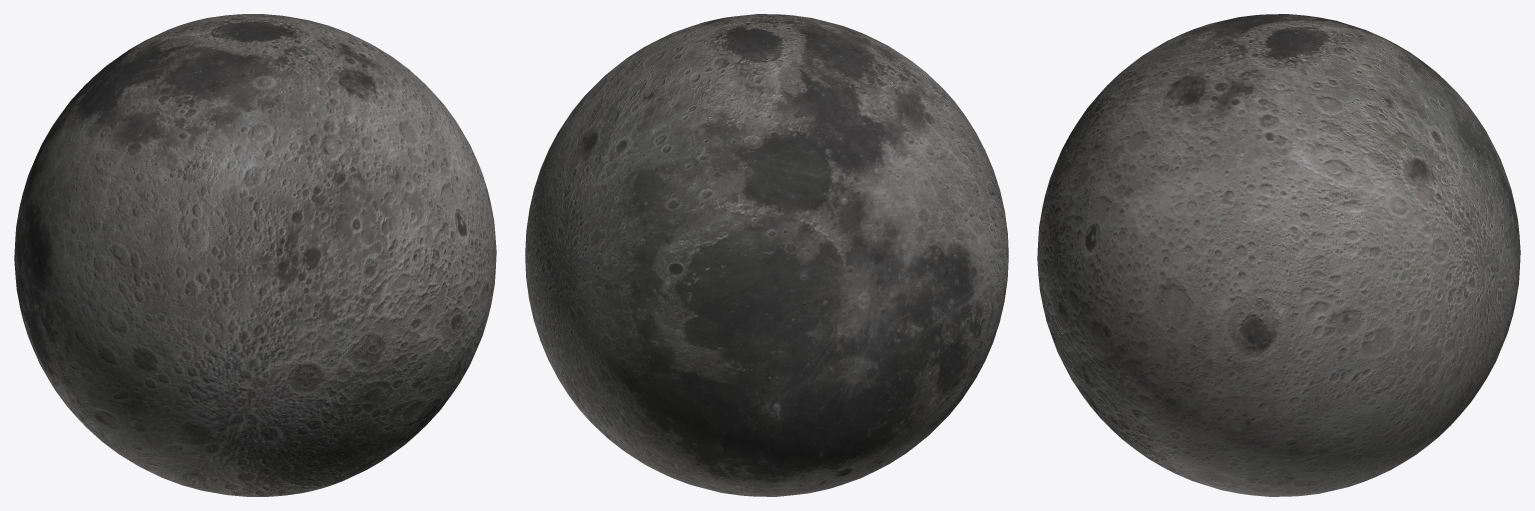
The model's file is moon.gltf.
3 renders of one model, left to right at view 1: azimuth 30°, elevation 25°; view 2: azimuth 150°, elevation 25°; view 3: azimuth 270°, elevation 25°, orthographic.
Parts seen in each view (by area): view 1: Moon; view 2: Moon; view 3: Moon.
Part boxes in pixels (x1,y1,x2,y2): Moon: [14, 14, 496, 496]; Moon: [525, 14, 1008, 496]; Moon: [1037, 14, 1520, 496].
Size of the model in its own units: 346 by 346 by 346.
1 material, 1 textured.
